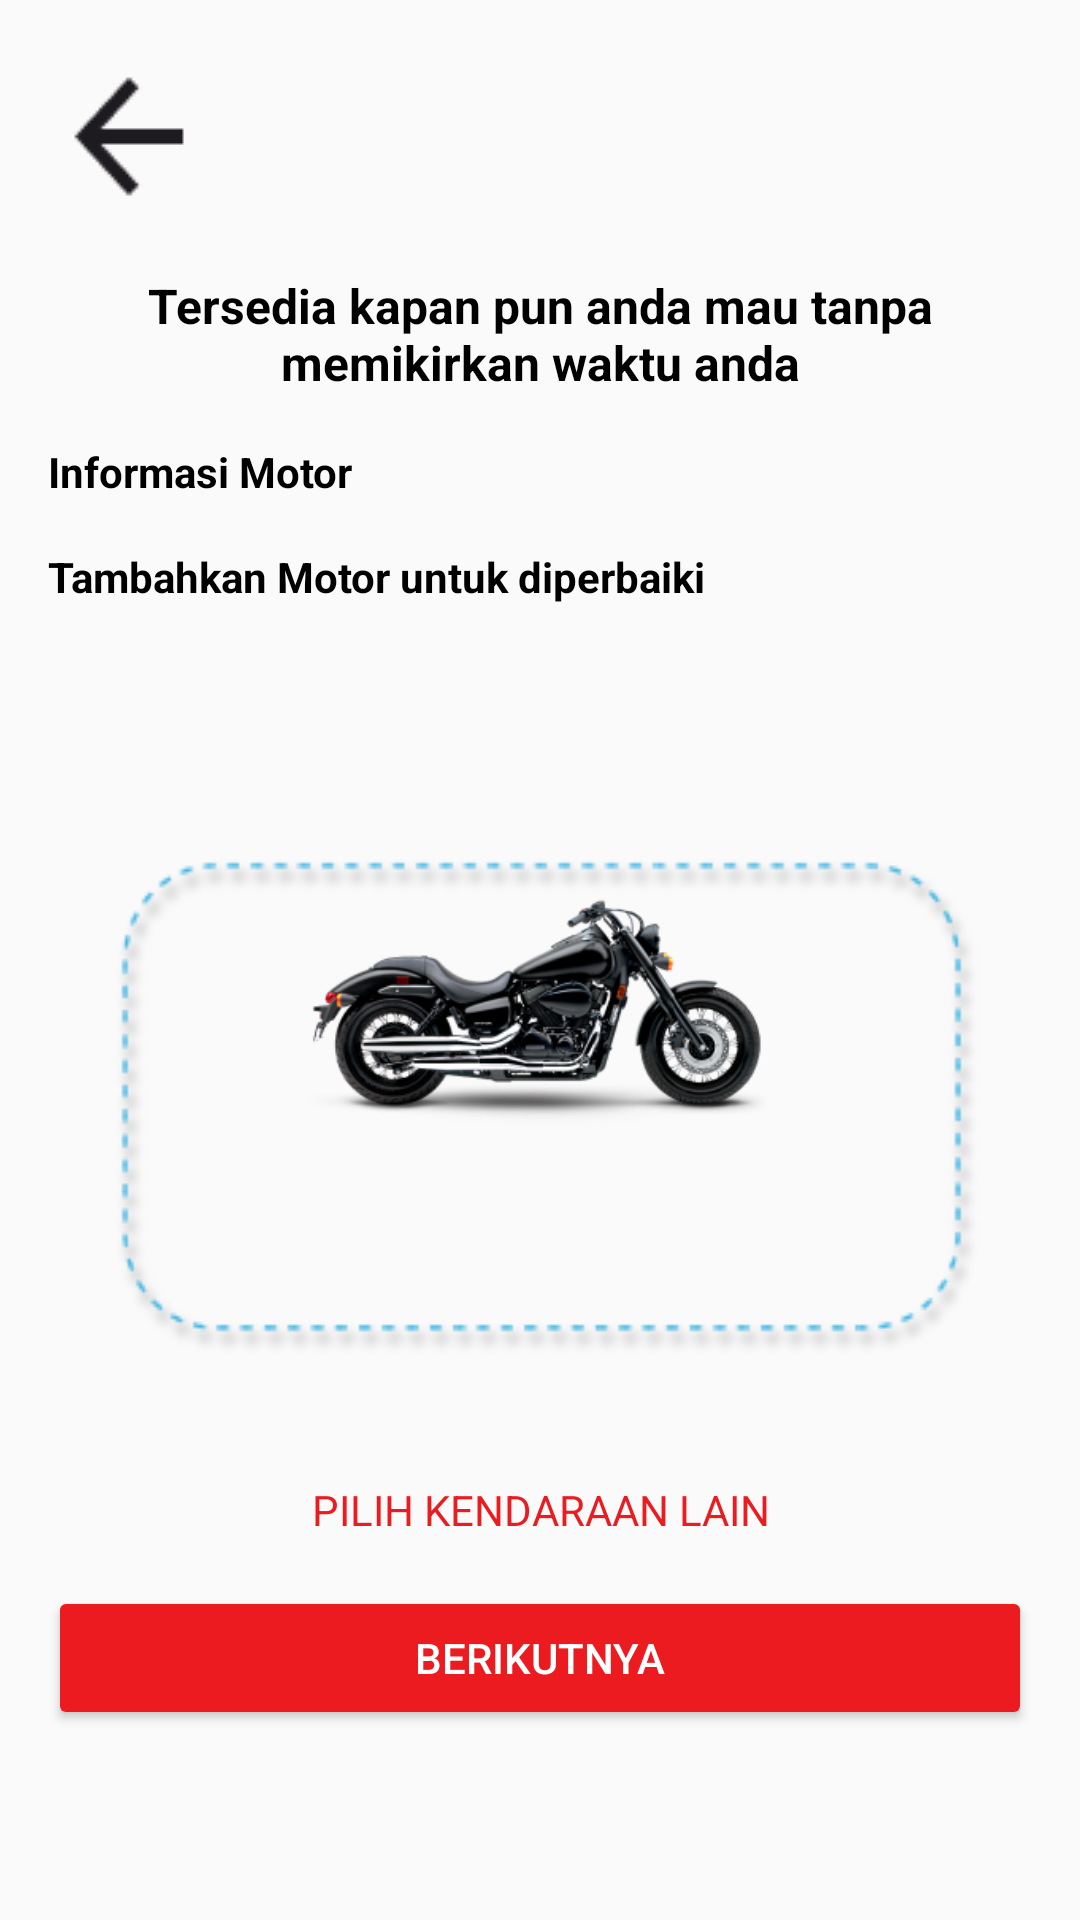

Where icons sit on this 1080px x 1920px app screen, as (x1, y1, x2, y2):
back: (74, 77, 184, 196)
